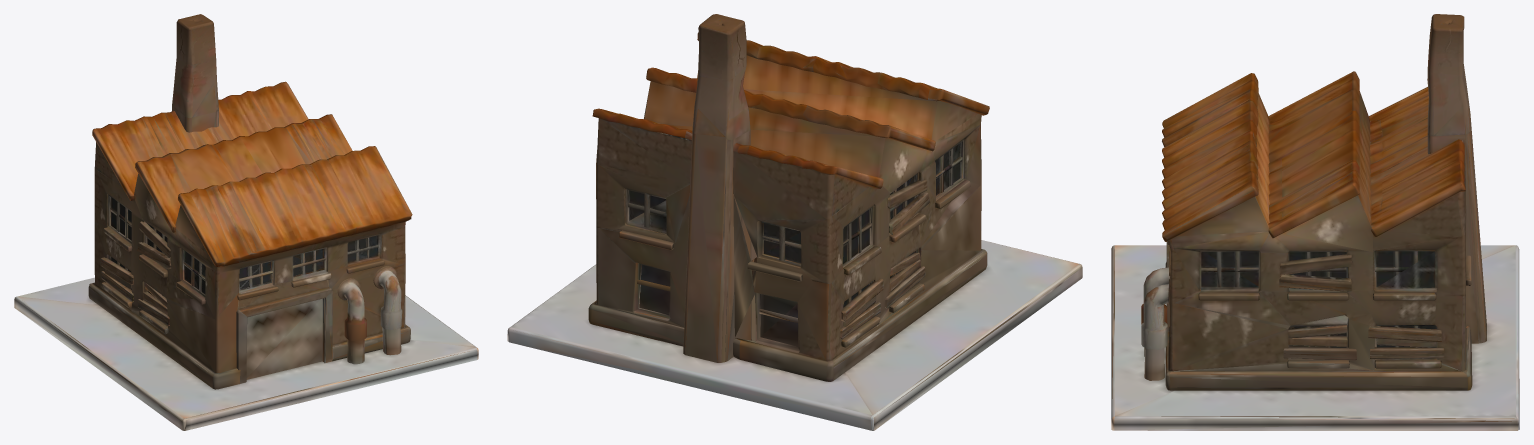
File: bld-cannery.glb
3 views of the same model, side by side, from view 1: azimuth 30°, elevation 25°; view 2: azimuth 150°, elevation 25°; view 3: azimuth 270°, elevation 25° (orthographic). The views are drawn at different scales.
Size of the model in its own units: 1.14 by 1 by 1.13.
Materials: 1 (1 with a texture image).
